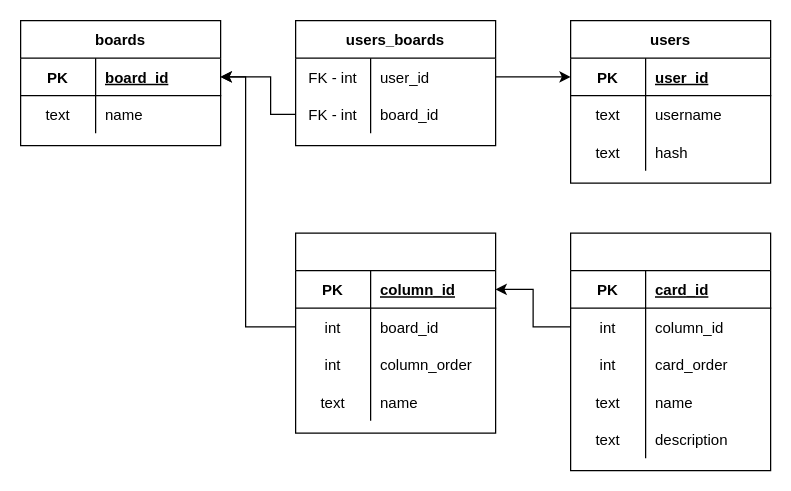
Some shapes in this 791 by 491 pixel diagram are drawn without their labels. The box of each missing label's shape, as (x1, y1, x2, y2) in pixels:
cards: (569, 232, 771, 471)
columns: (294, 232, 496, 433)
